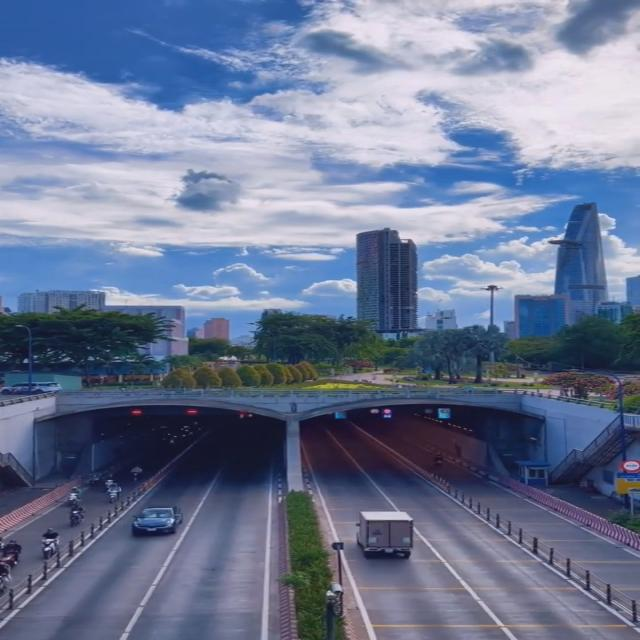car: (131, 507, 182, 535)
motorbike: (40, 527, 59, 559), (65, 486, 86, 506), (67, 504, 85, 526), (106, 483, 121, 502)
truck: (356, 510, 414, 557)
